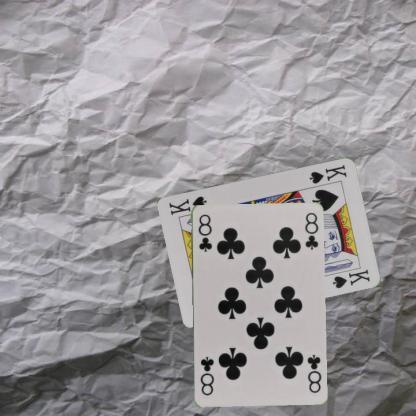8c: (195, 211, 213, 254), (304, 352, 322, 394)
Ks: (306, 162, 349, 185)
